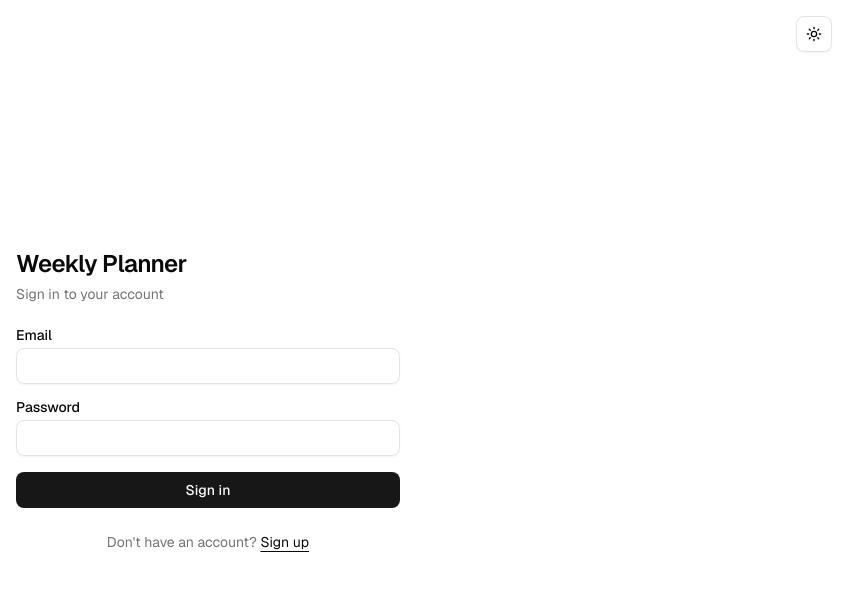
Test: LoginPage › mode toggle › toggles back to sign-in mode from sign-up mode
Click the button "Sign up" at (285, 542), box [260,532,309,552]
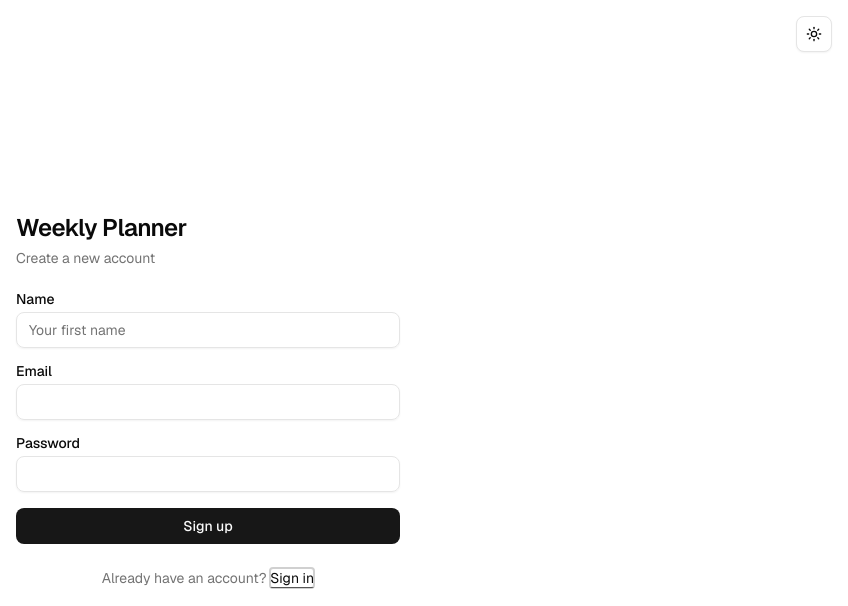
Click the button "Sign in" at (292, 578), box [270,568,314,588]
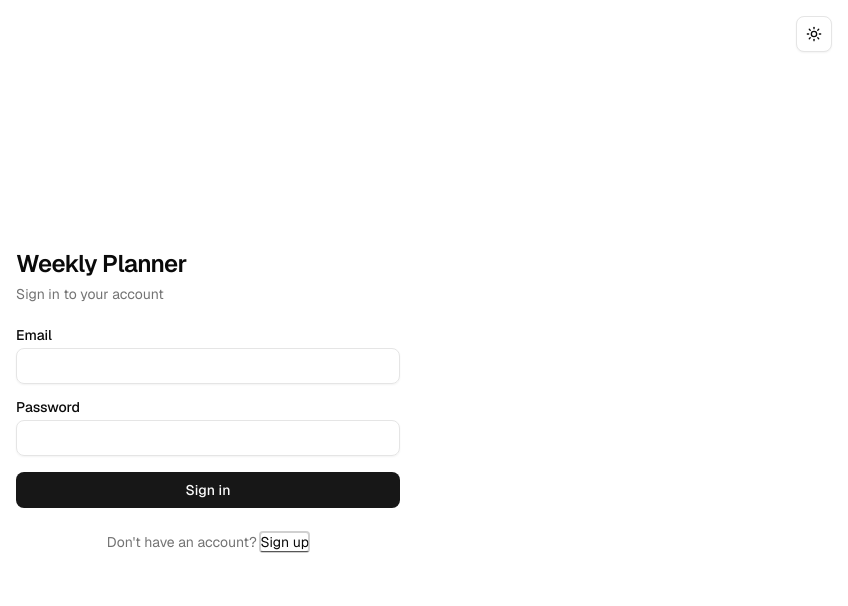
Result: the text "Sign in to your account" is shown at [16,285,164,303]
